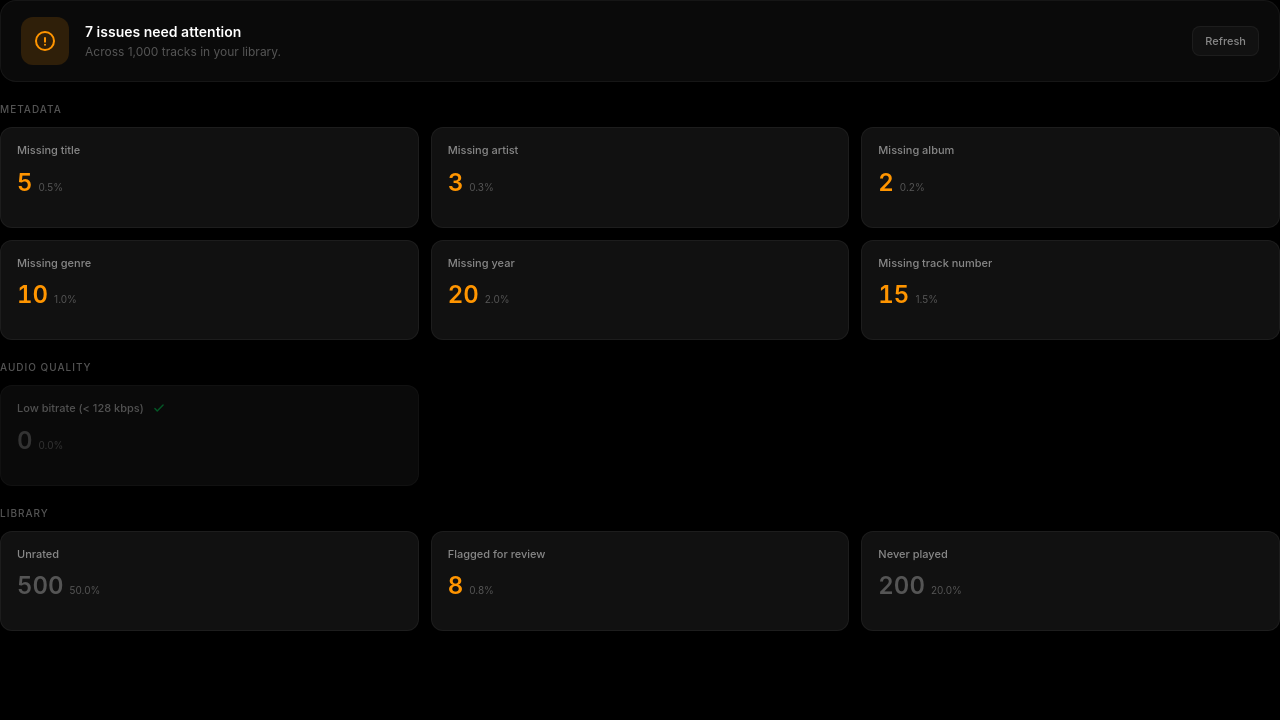
Test case: drill-down › opens detail modal when issue card is clicked
The width and height of the screenshot is (1280, 720).
Click the text "Missing title".
click(49, 150)  # box [17,142,80,158]
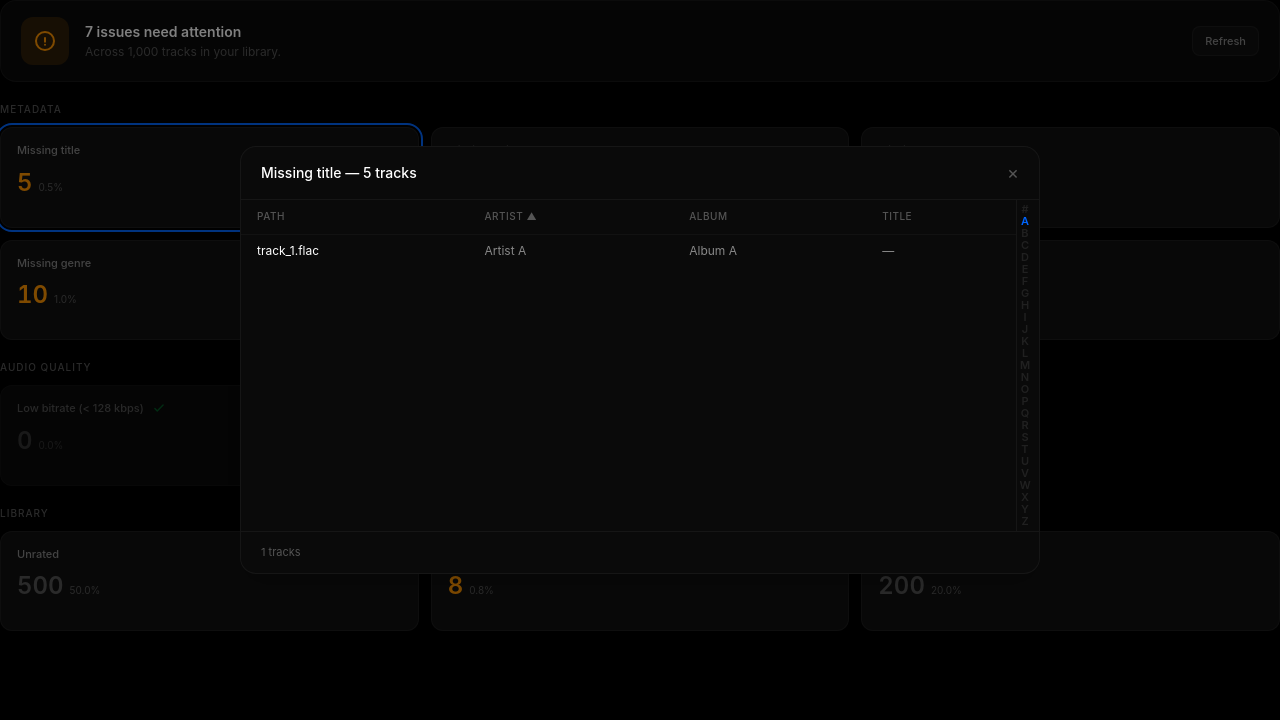
Expected: the heading "Missing title — 5 tracks" is shown, [261,163,417,183]
